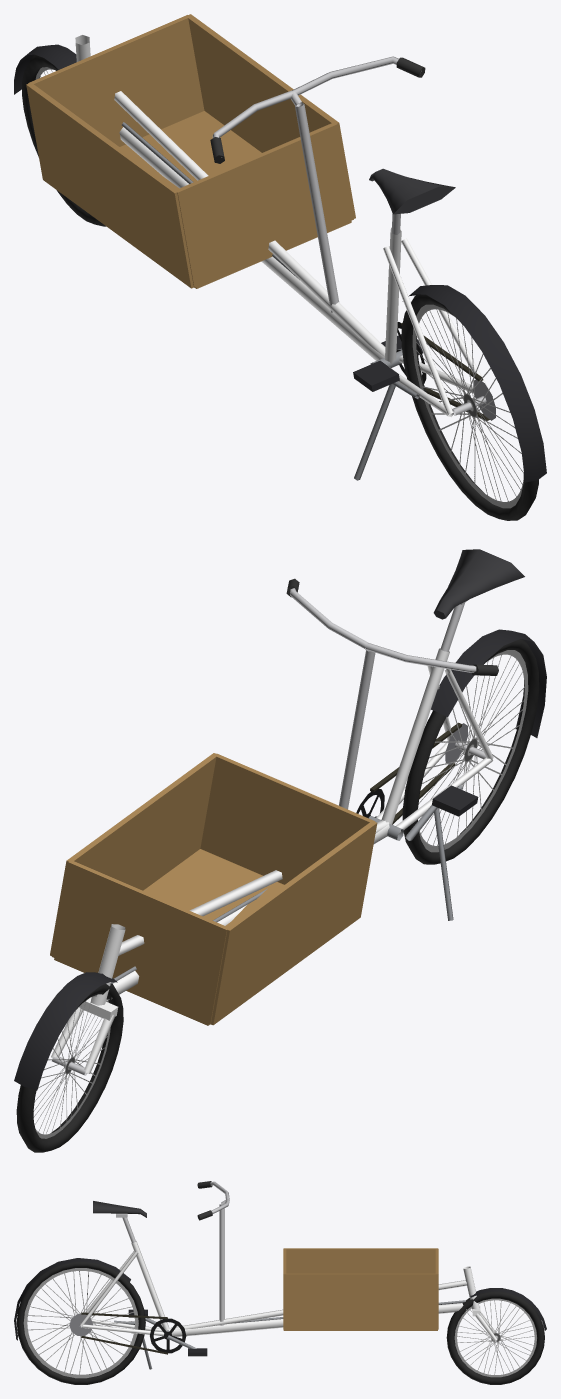
File: cargo_lean.glb
3 renders of one model, top to bottom at view 1: azimuth 30°, elevation 25°; view 2: azimuth 150°, elevation 25°; view 3: azimuth 270°, elevation 25°, orthographic. The views are drawn at different scales.
Visible parts, largest first — view 1: bike; view 2: bike; view 3: bike.
Part boxes in pixels (x1,y1,x2,y2): bike: (14, 14, 546, 520); bike: (14, 549, 546, 1152); bike: (14, 1181, 546, 1384).
Bounding box in the file's own units: 0.6938 × 1.06 × 2.76.
1 material, 1 textured.
